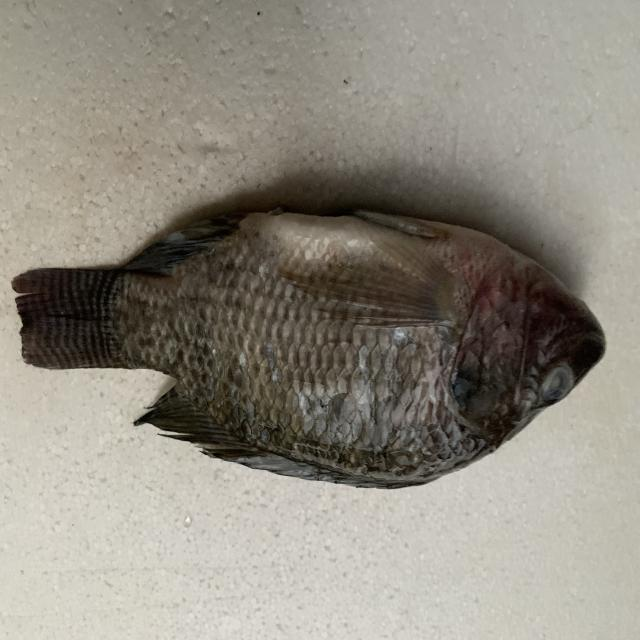Eye -1-: (535, 342, 581, 412)
Skin-4-: (109, 266, 454, 486)
Tilapia-NF-0-5-: (5, 186, 619, 528)
